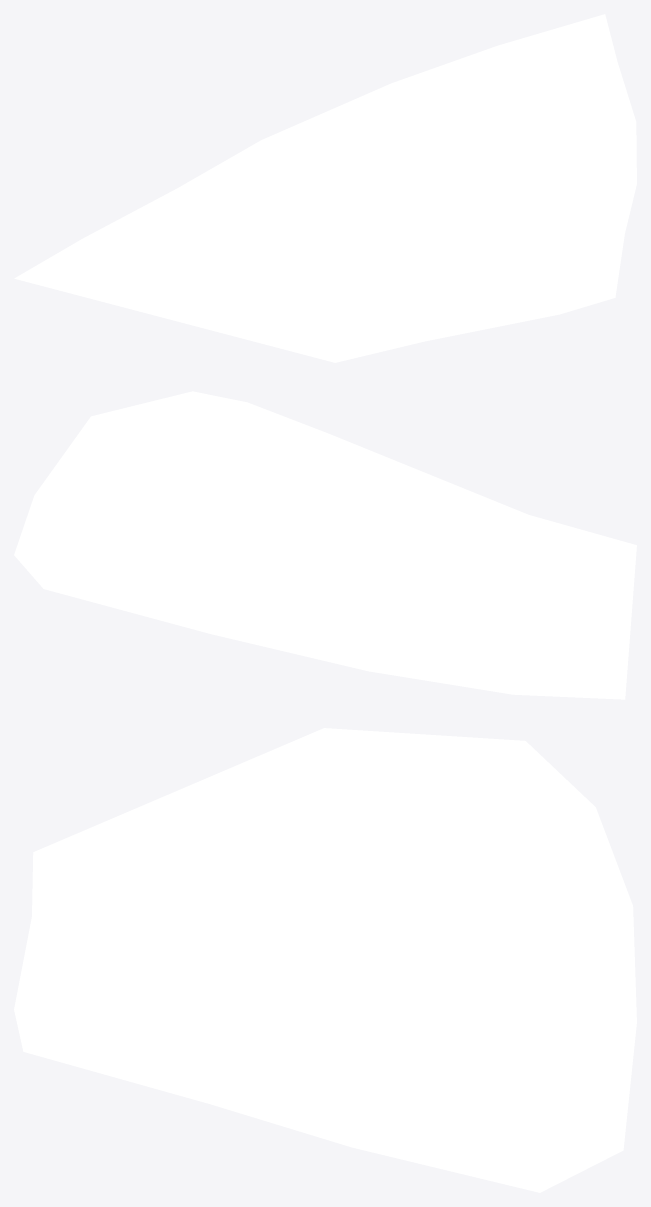
The model's file is LowPolyRock_2.FBX.
3 renders of one model, top to bottom at view 1: azimuth 30°, elevation 25°; view 2: azimuth 150°, elevation 25°; view 3: azimuth 270°, elevation 25°, orthographic. The views are drawn at different scales.
Visible parts, largest first — view 1: Rock_6; view 2: Rock_6; view 3: Rock_6.
Part boxes in pixels (x1=…): Rock_6: x1=14, y1=14, x2=636, y2=362; Rock_6: x1=14, y1=391, x2=636, y2=699; Rock_6: x1=14, y1=728, x2=636, y2=1192.
Size of the model in its own units: 12.36 by 2.89 by 7.2.
Materials: 1 (1 with a texture image).
